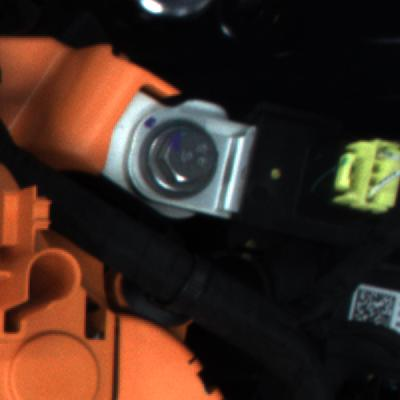nut_b: (127, 117, 225, 201)
